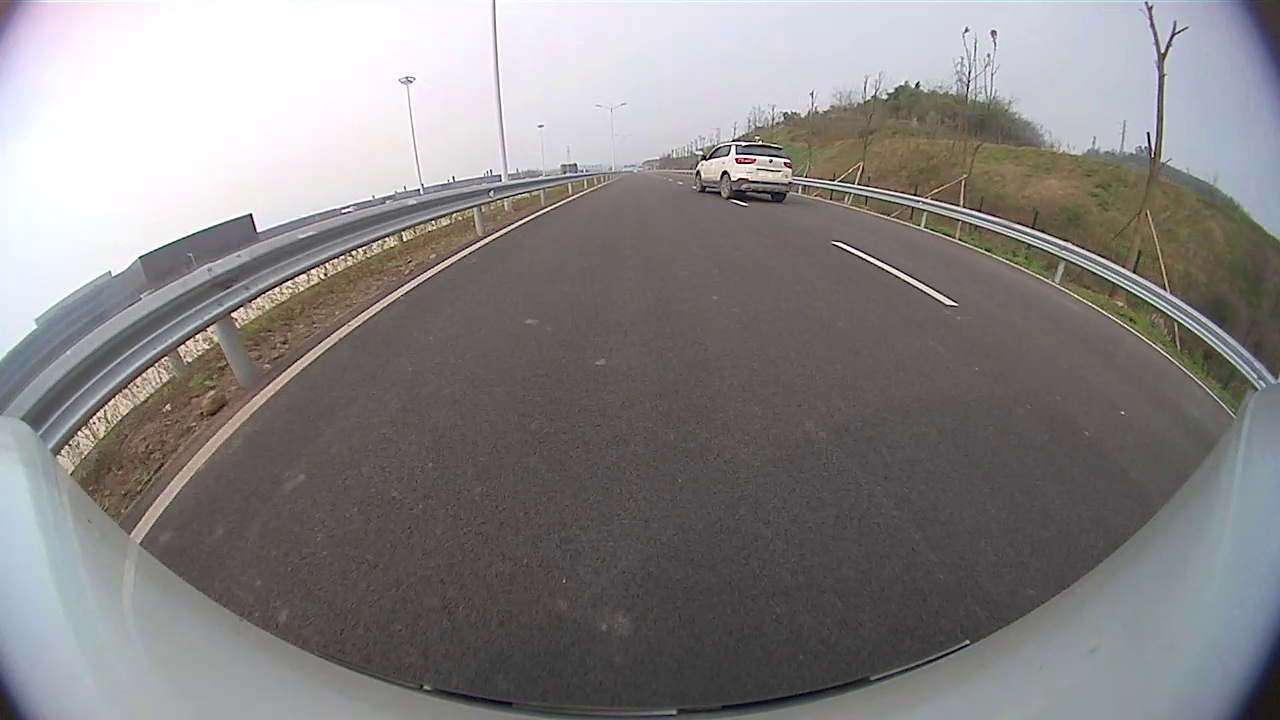car: (693, 141, 794, 202)
front: (693, 173, 708, 194)
rear: (719, 173, 736, 202)
